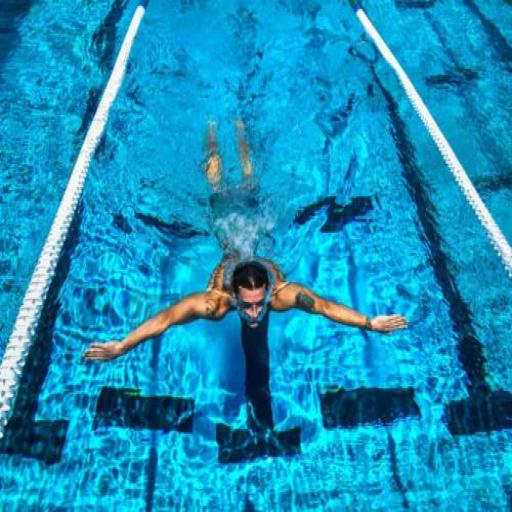swimming: (80, 244, 408, 448)
